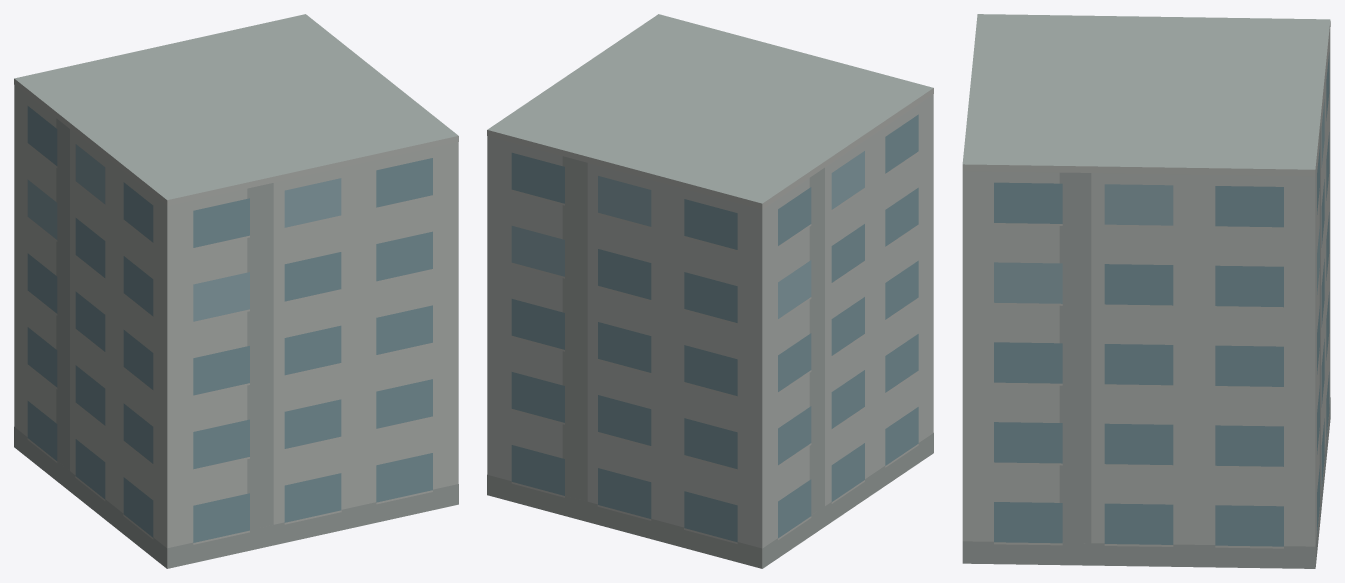
File: survey-upis-32876542.glb
3 renders of one model, left to right at view 1: azimuth 30°, elevation 25°; view 2: azimuth 150°, elevation 25°; view 3: azimuth 270°, elevation 25°, orthographic. The views are drawn at different scales.
Visible parts, largest first — view 1: survey-upis-32876542.tmp; view 2: survey-upis-32876542.tmp; view 3: survey-upis-32876542.tmp.
Part boxes in pixels (x1,y1,x2,y2): survey-upis-32876542.tmp: (14, 14, 458, 568); survey-upis-32876542.tmp: (487, 14, 933, 568); survey-upis-32876542.tmp: (962, 14, 1330, 568).
Size of the model in its own units: 12.31 by 14.7 by 12.29.
